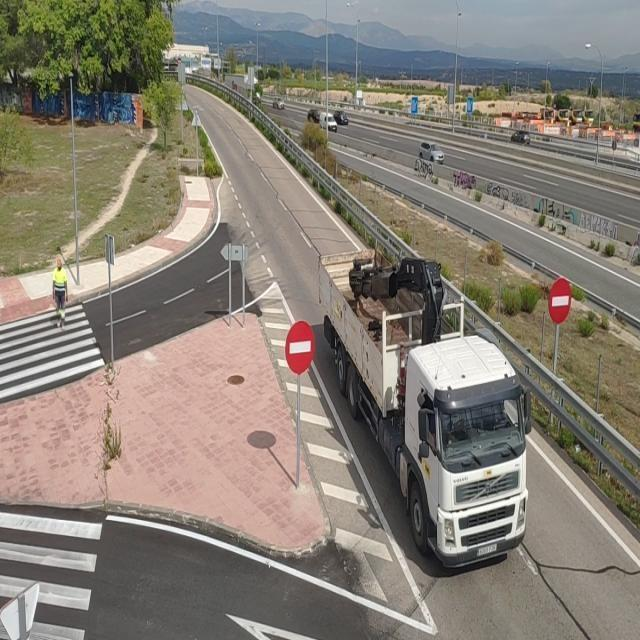Car: (418, 138, 446, 164)
Truck: (312, 240, 530, 578)
Van: (317, 110, 338, 134)
